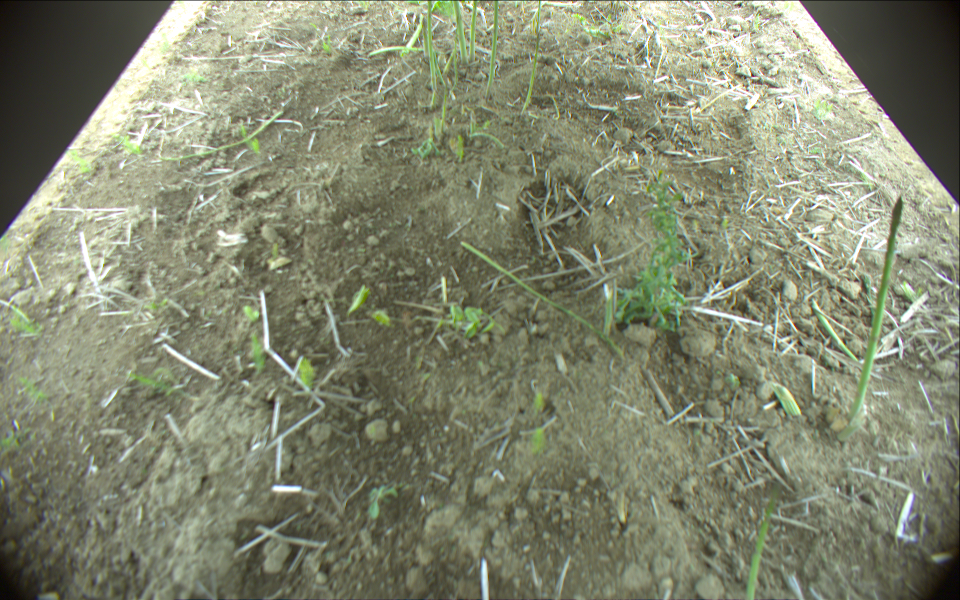aspa: (461, 244, 628, 363), (844, 194, 904, 435), (162, 109, 283, 162), (743, 487, 781, 600), (812, 300, 862, 361), (523, 1, 542, 111), (484, 1, 501, 103), (433, 45, 449, 133), (426, 1, 437, 101), (402, 13, 425, 56), (453, 1, 468, 64), (454, 1, 468, 65), (468, 1, 481, 63), (369, 45, 426, 57), (443, 49, 455, 80)
